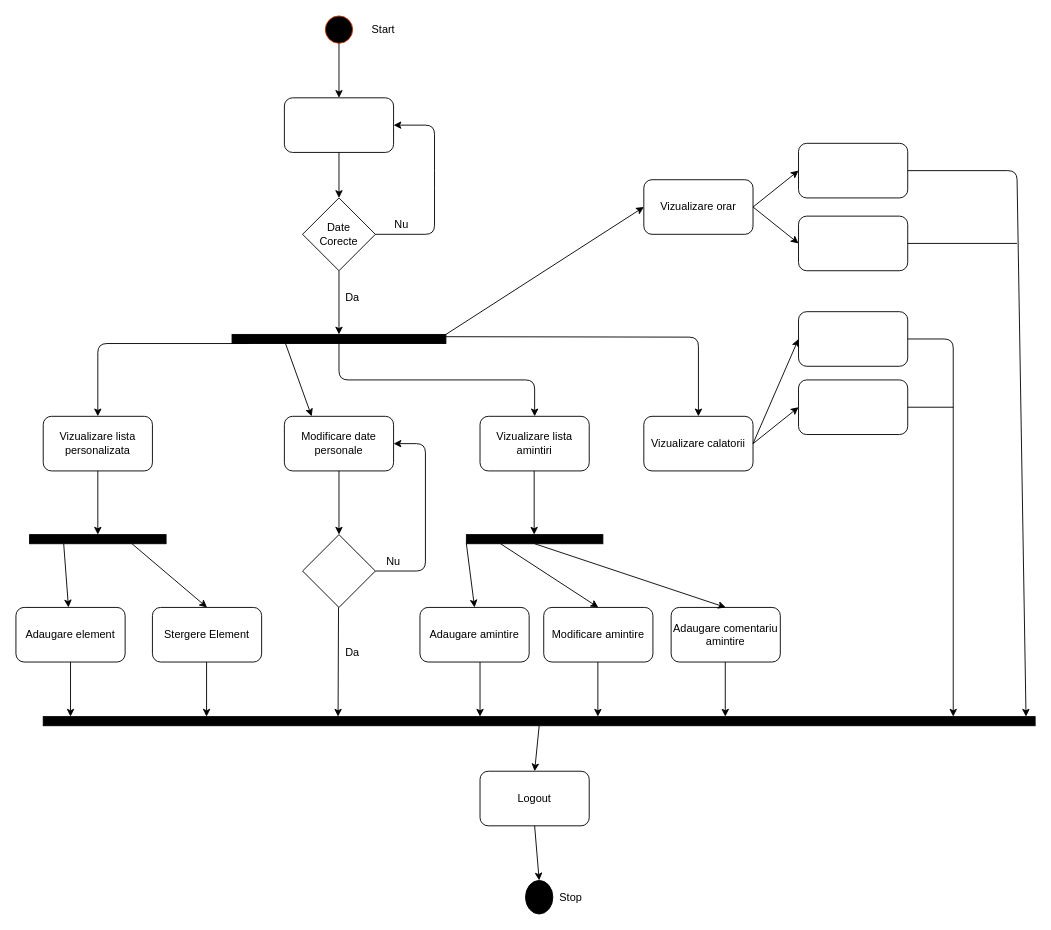
Some shapes in this 1051 by 930 pixel diagram are drawn without their labels. Each missing label, with the centre of its shape:
Adaugare / Eliminare Activitate: point (853, 170)
Autentificare copil: point (338, 124)
Completare Activitate: point (853, 243)
Formular Corect: point (338, 570)
Propunere calatorii: point (853, 338)
Votare calatorii: point (853, 407)
